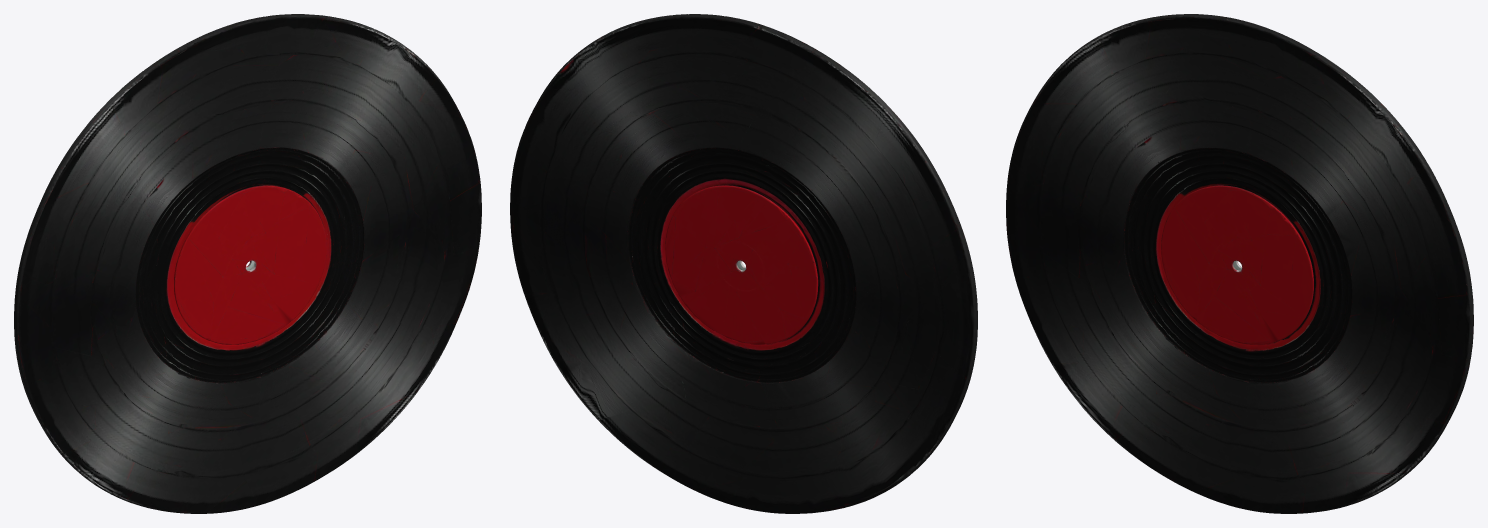
Rendered from vinyl.glb.
3 views of the same model, side by side, from view 1: azimuth 30°, elevation 25°; view 2: azimuth 150°, elevation 25°; view 3: azimuth 330°, elevation 25° (orthographic).
Visible parts, largest first — view 1: Mesh_0; view 2: Mesh_0; view 3: Mesh_0.
Boxes of the visible parts, x1,y1,x2,y2 form: Mesh_0: (14,14,481,513); Mesh_0: (510,14,977,513); Mesh_0: (1006,14,1473,513).
Size of the model in its own units: 1 by 0.9982 by 0.0222.
Materials: 1 (1 with a texture image).
